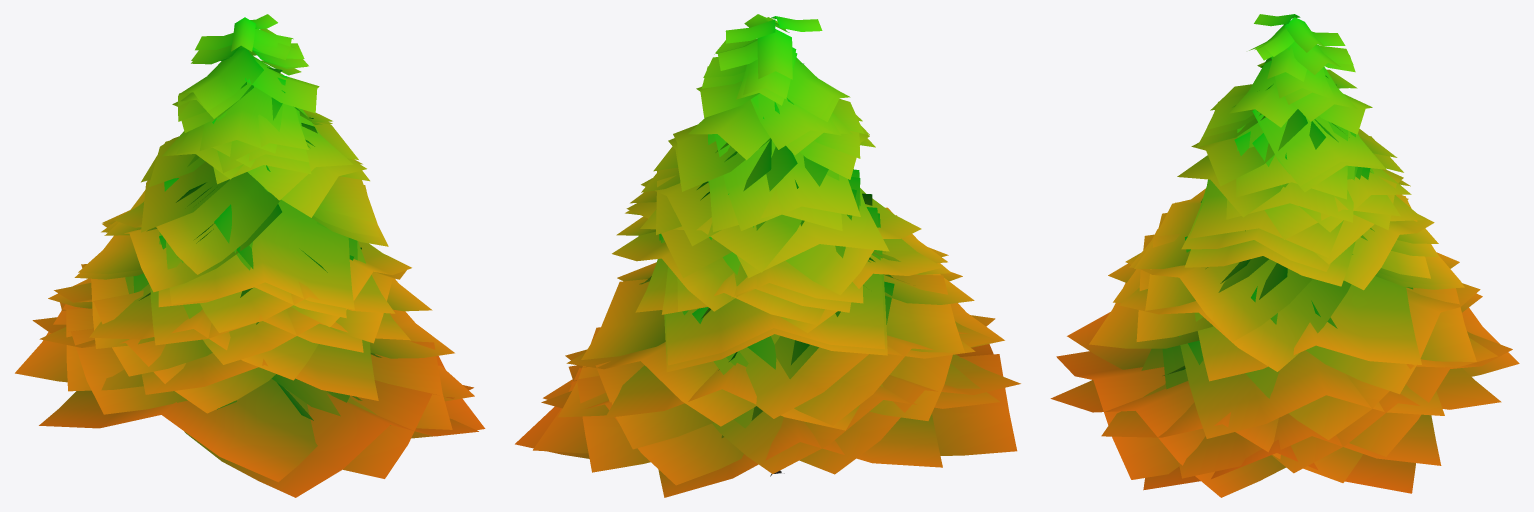
File: tree 2.fbx
3 renders of one model, left to right at view 1: azimuth 30°, elevation 25°; view 2: azimuth 150°, elevation 25°; view 3: azimuth 270°, elevation 25°, orthographic. The views are drawn at different scales.
Parts seen in each view (by area): view 1: Tree_LOD0; view 2: Tree_LOD0; view 3: Tree_LOD0.
Part boxes in pixels (bbox=[...]): Tree_LOD0: bbox=[15, 14, 485, 497]; Tree_LOD0: bbox=[515, 14, 1020, 497]; Tree_LOD0: bbox=[1050, 14, 1519, 497].
Size of what is drawn, in the model's own units: 1688 by 1669 by 1691.
